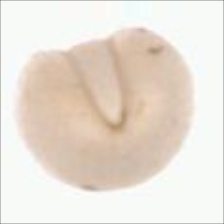L5: (59, 35, 133, 135)
L6: (13, 25, 196, 192)
